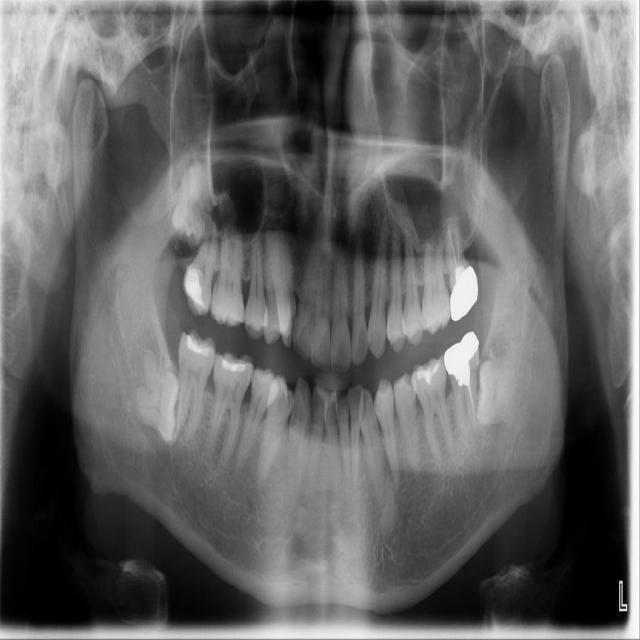Crown: (443, 331, 480, 386), (448, 265, 478, 322)
Filling: (182, 333, 215, 359), (184, 268, 203, 305), (418, 361, 439, 385), (454, 359, 471, 388), (222, 356, 245, 373)
Root Canal Treatment: (445, 233, 455, 268), (468, 385, 474, 415), (453, 220, 457, 261)
impacted tooth: (124, 346, 178, 440), (172, 154, 212, 244), (473, 360, 525, 426)
